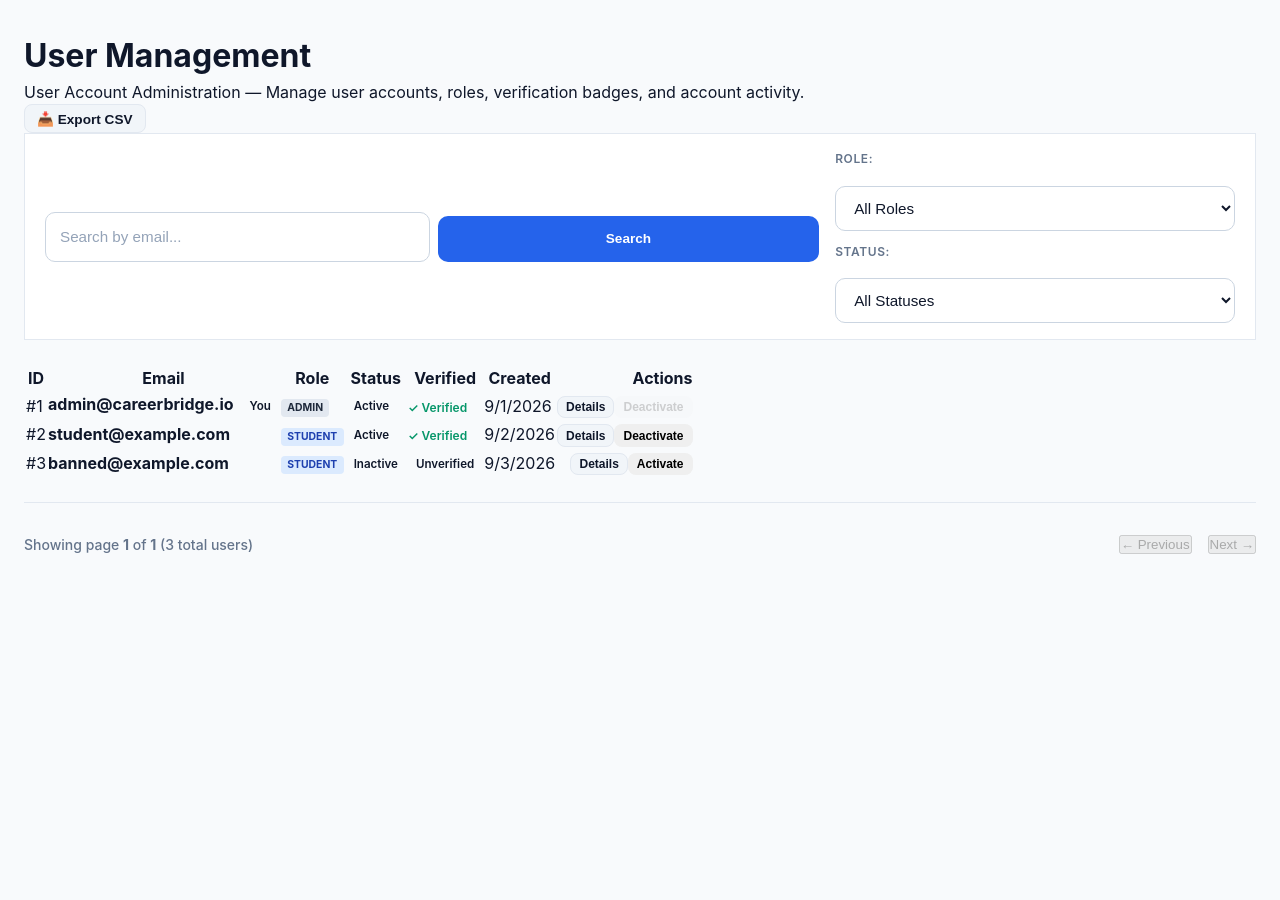
Test: AdminUsersPage Component › opens UserStatusModal and updates row on success
Expected: the text "student@example.com" is shown, [48,424,230,444]
Click the button with test id "toggle-status-2-btn" at (654,436), box [614,424,692,447]
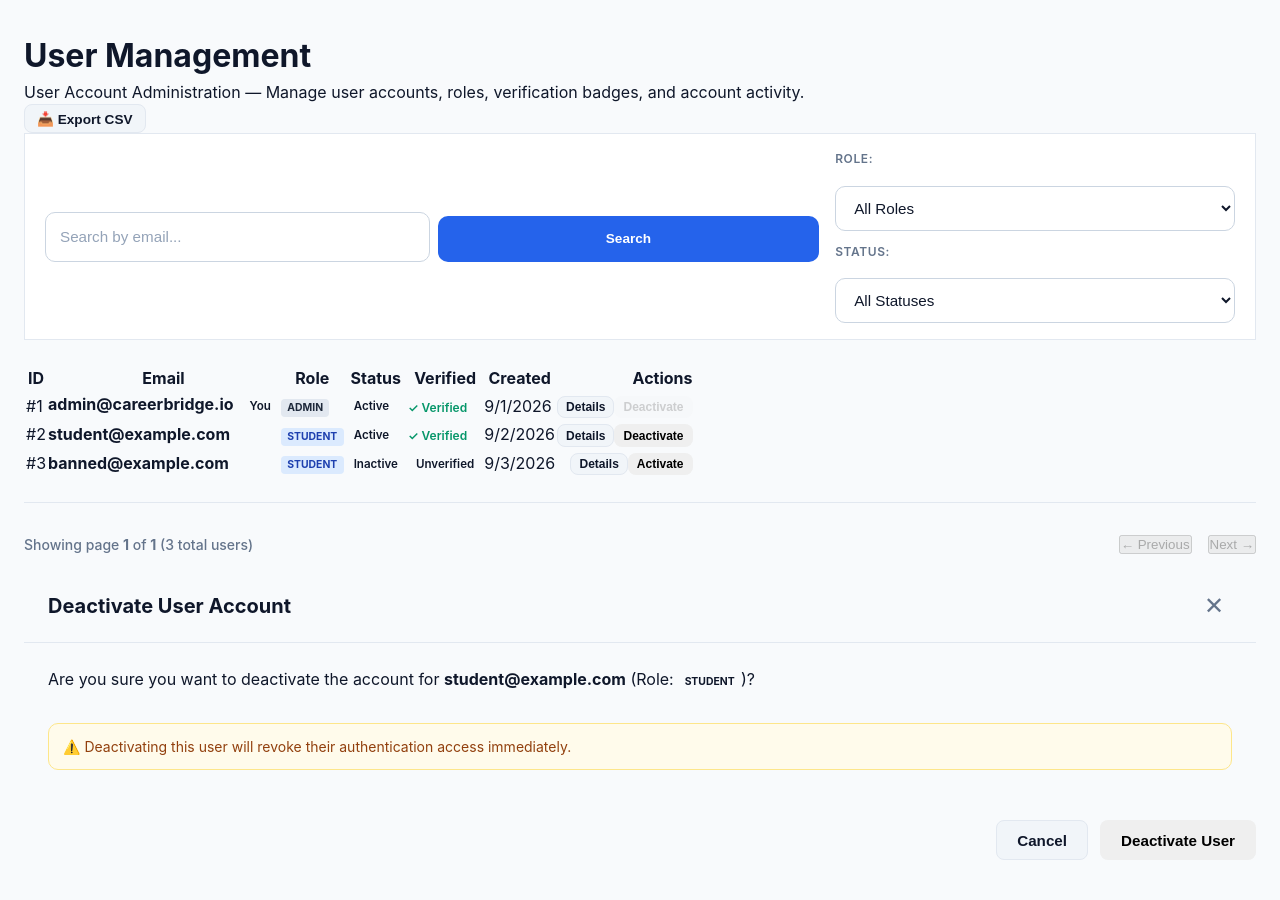
Result: the dialog with test id "user-status-modal" is shown at [24,570,1256,860]
Click the button with test id "confirm-status-btn" at (1178,840), box [1100,820,1256,860]
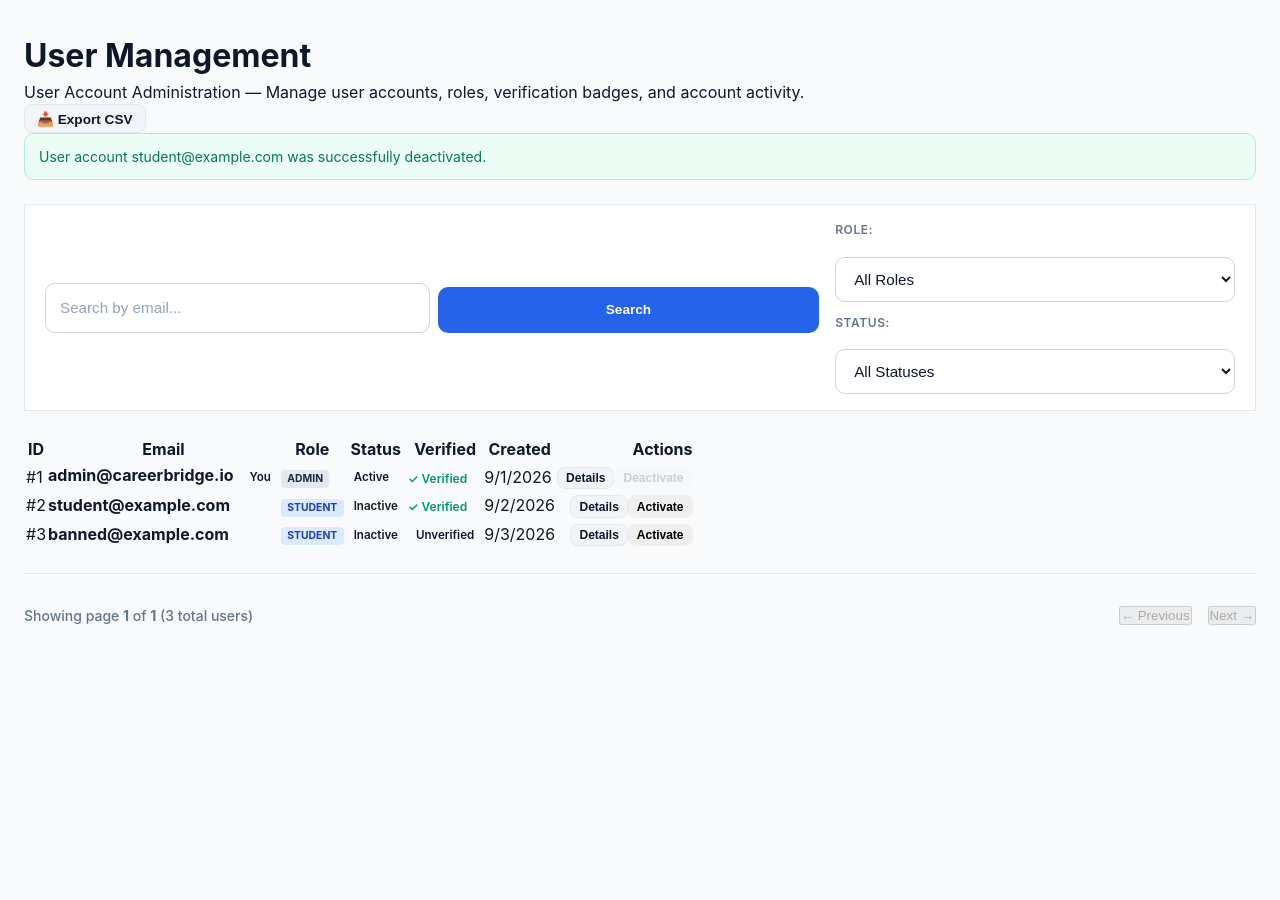
Result: the text "User account student@example.com was successfully deactivated." is shown at [24,133,1256,180]
